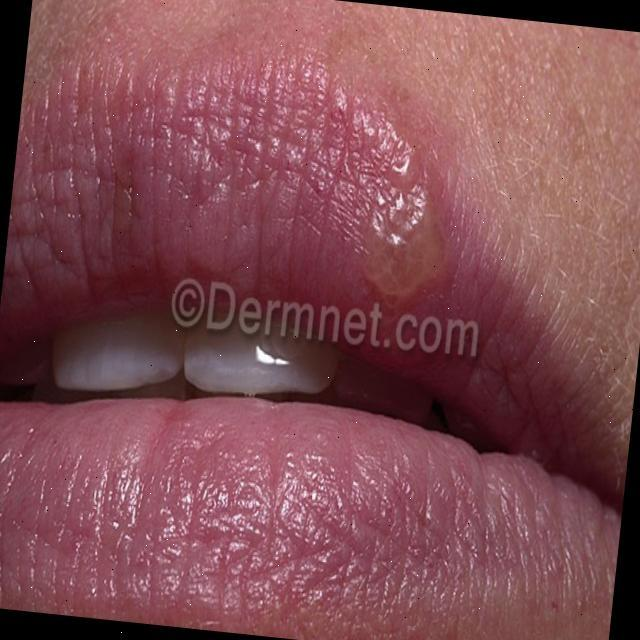Shingles: (344, 174, 452, 302)
